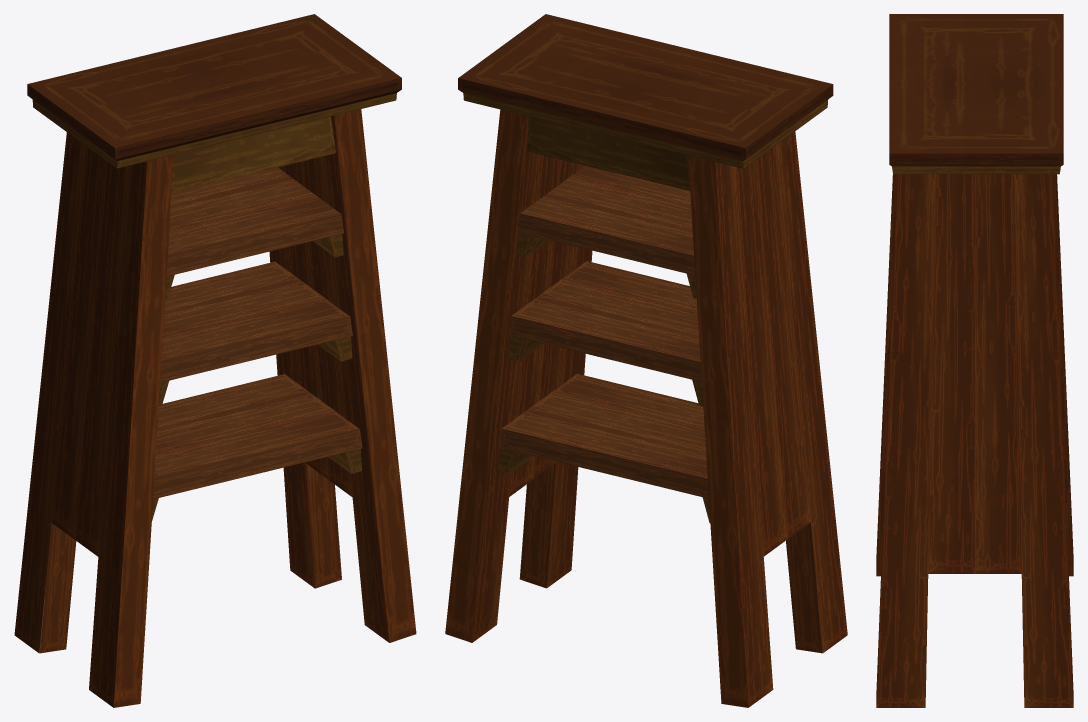
The model's file is Nightstand_Shelf.gltf.
3 views of the same model, side by side, from view 1: azimuth 30°, elevation 25°; view 2: azimuth 150°, elevation 25°; view 3: azimuth 270°, elevation 25° (orthographic).
Visible parts, largest first — view 1: Nightstand_Shelf; view 2: Nightstand_Shelf; view 3: Nightstand_Shelf.
Boxes of the visible parts, x1,y1,x2,y2 form: Nightstand_Shelf: (14, 14, 416, 707); Nightstand_Shelf: (445, 14, 847, 707); Nightstand_Shelf: (876, 14, 1073, 707).
Size of the model in its own units: 0.6933 by 1.22 by 0.3935.
1 material, 1 textured.
